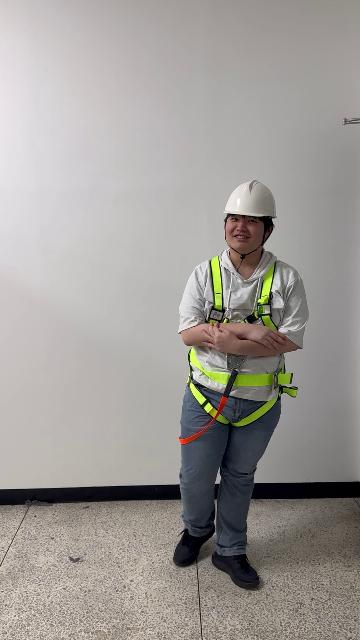helmet_worn: (222, 179, 278, 219)
shoe_not_worn: (172, 524, 215, 567), (211, 550, 259, 588)
vest_worn: (183, 256, 296, 424)
